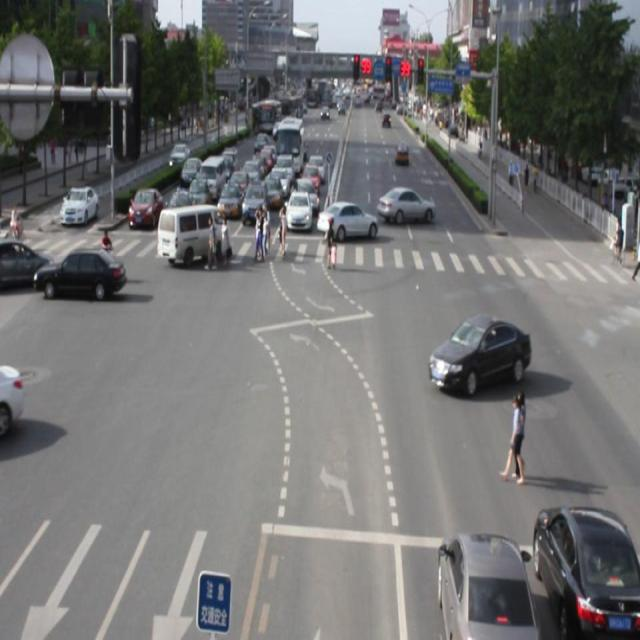car: (523, 495, 640, 640), (429, 524, 530, 640), (427, 313, 531, 391)
truck: (158, 201, 231, 261)
